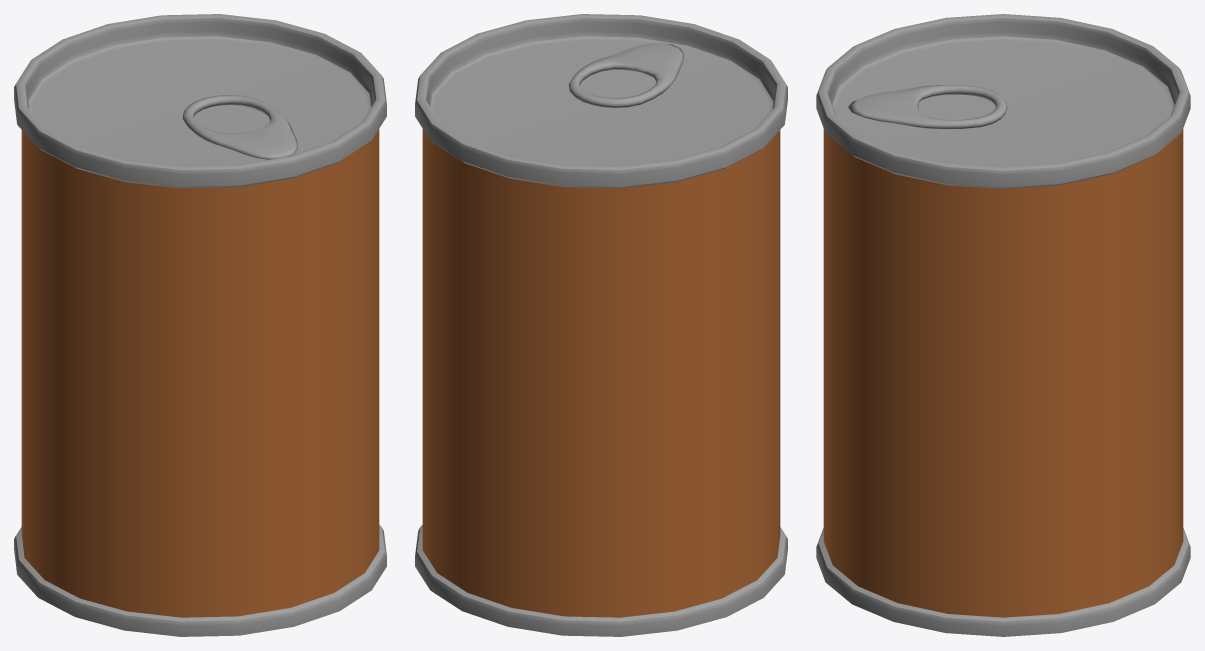
Rendered from lata_de_comida.glb.
3 views of the same model, side by side, from view 1: azimuth 30°, elevation 25°; view 2: azimuth 150°, elevation 25°; view 3: azimuth 270°, elevation 25° (orthographic).
Visible parts, largest first — view 1: pCube2; view 2: pCube2; view 3: pCube2.
Part boxes in pixels (<box>): pCube2: <box>14,14,386,636</box>; pCube2: <box>415,14,787,636</box>; pCube2: <box>816,14,1190,636</box>.
Size of the model in its own units: 0.0796 by 0.1095 by 0.0796.
